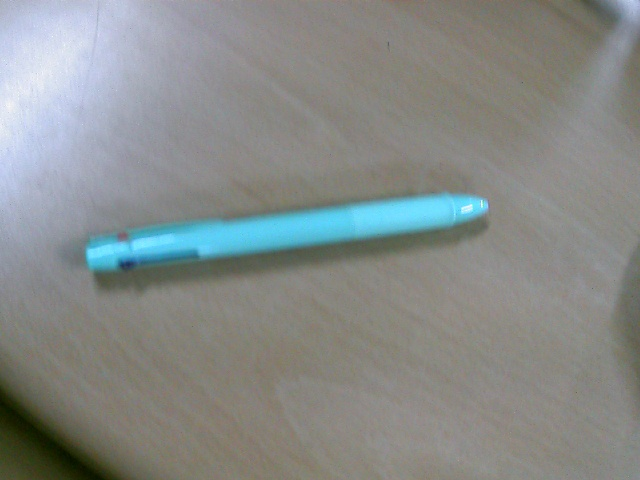pen: (92, 193, 487, 264)
